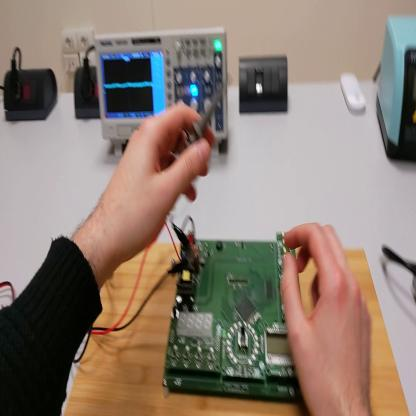hand: (94, 103, 217, 269), (281, 223, 372, 415)
low voltage board: (159, 210, 308, 393)
oscilloscope: (95, 26, 227, 157)
oscilloscope probe tip: (171, 82, 221, 166)
socket: (4, 63, 60, 126), (76, 67, 101, 120)
welder station: (378, 14, 416, 162)
working area: (63, 245, 412, 416)
